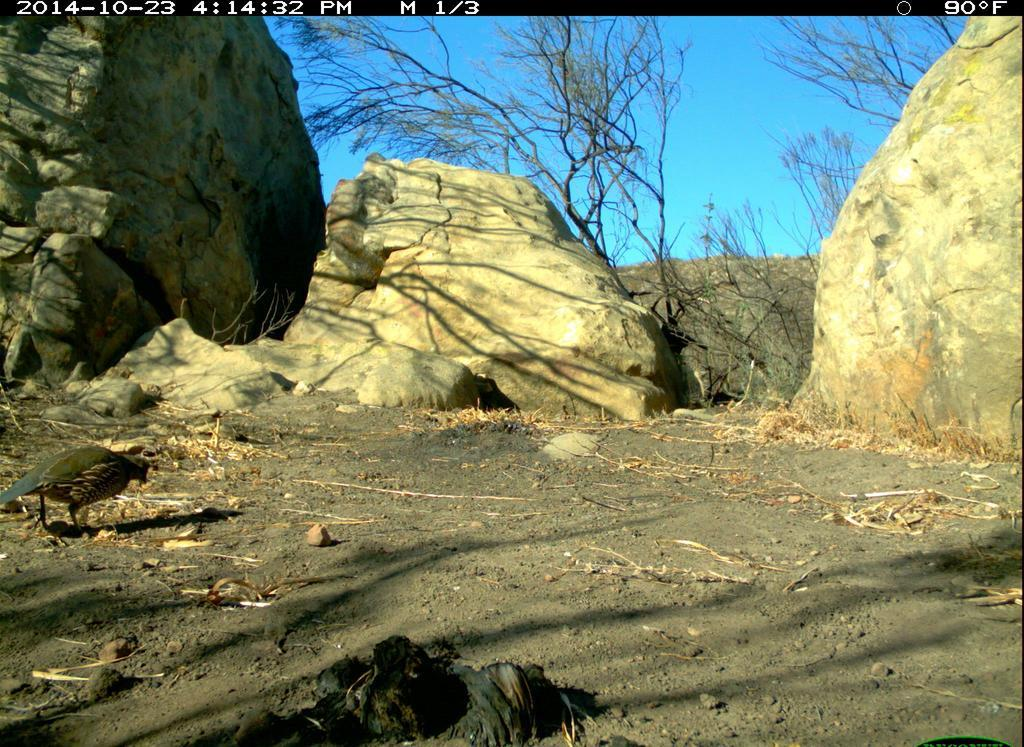bird: (1, 431, 166, 555)
